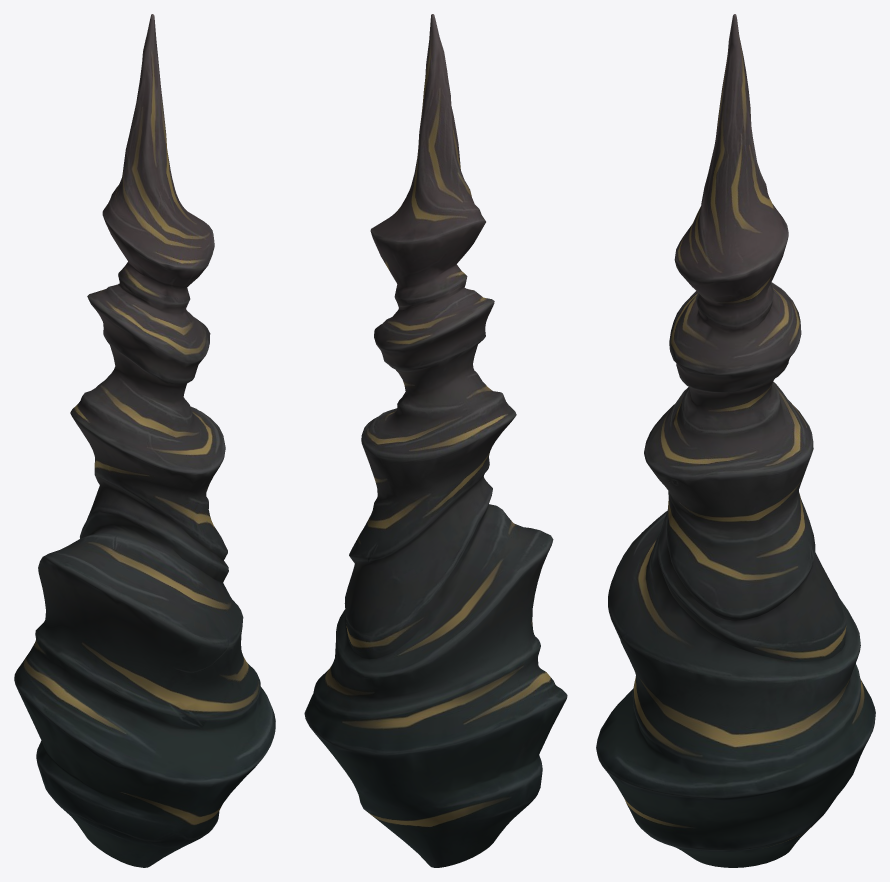
File: spire_01_a2.glb
The picture shows the model from 3 angles, left to right: view 1: azimuth 30°, elevation 25°; view 2: azimuth 150°, elevation 25°; view 3: azimuth 270°, elevation 25°; orthographic projection. The views are drawn at different scales.
Parts seen in each view (by area): view 1: a2_Mesh; view 2: a2_Mesh; view 3: a2_Mesh.
Part boxes in pixels (x1=…): a2_Mesh: x1=14, y1=14, x2=275, y2=867; a2_Mesh: x1=304, y1=14, x2=567, y2=867; a2_Mesh: x1=596, y1=14, x2=875, y2=867.
Size of the model in its own units: 5.63 by 19.47 by 5.75.
1 material, 1 textured.
